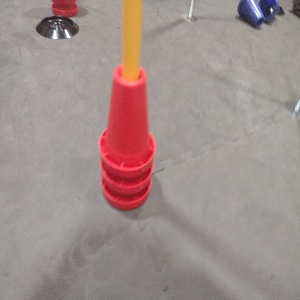Blue_1: (234, 0, 265, 26)
Red_3: (91, 61, 156, 211)
